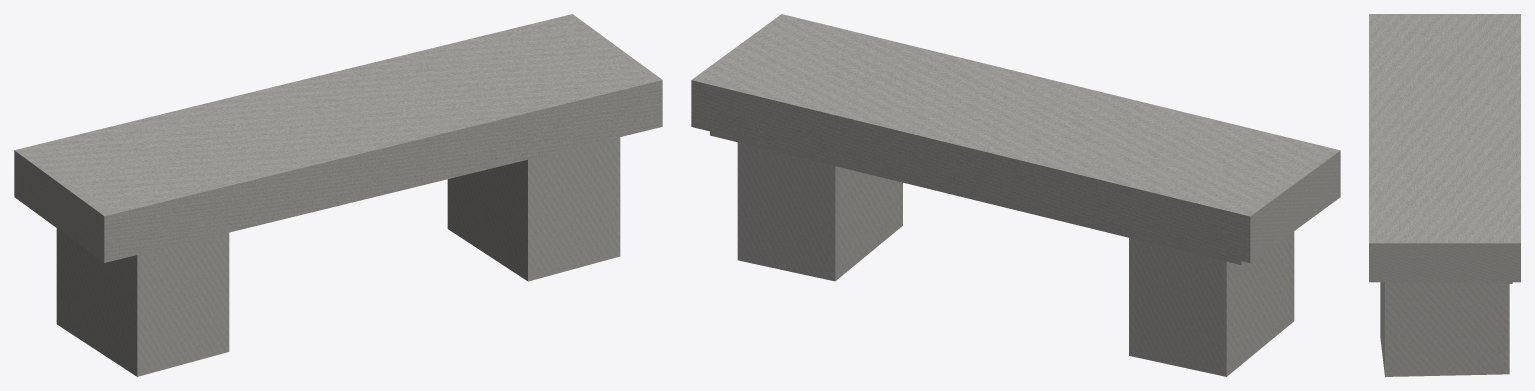
Rendered from andean-terraces-and-stone-village-stone-bench-6bb544bf__38271.glb.
3 views of the same model, side by side, from view 1: azimuth 30°, elevation 25°; view 2: azimuth 150°, elevation 25°; view 3: azimuth 270°, elevation 25° (orthographic). The views are drawn at different scales.
Visible parts, largest first — view 1: stone-bench-stone; view 2: stone-bench-stone; view 3: stone-bench-stone.
Part boxes in pixels (box(x1,y1,x2,y2)): stone-bench-stone: box(14, 14, 662, 376); stone-bench-stone: box(691, 14, 1340, 376); stone-bench-stone: box(1369, 14, 1520, 376).
Size of the model in its own units: 2 by 0.5999 by 0.5599.
1 material, 1 textured.
